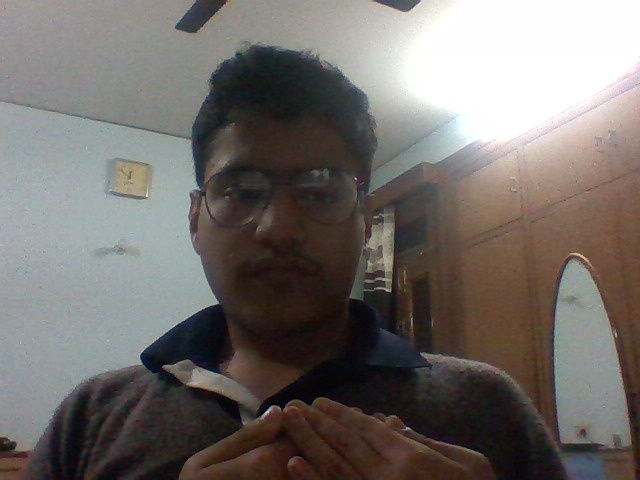Love: (208, 385, 512, 480)
